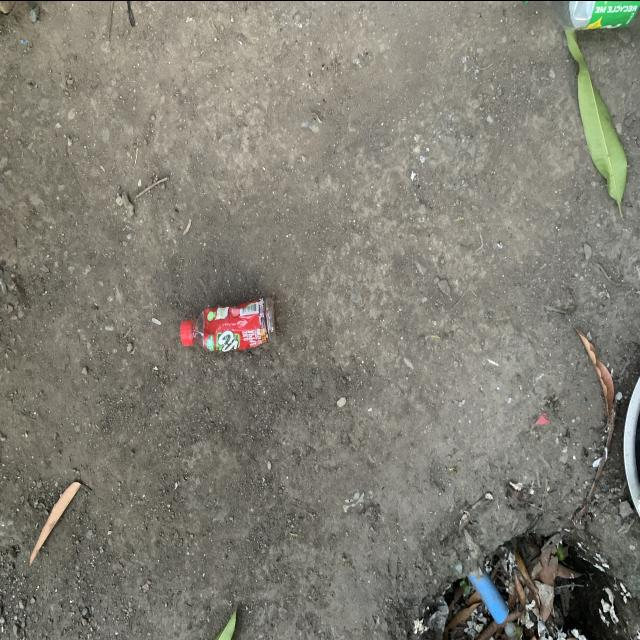Bottle: (181, 298, 274, 351)
